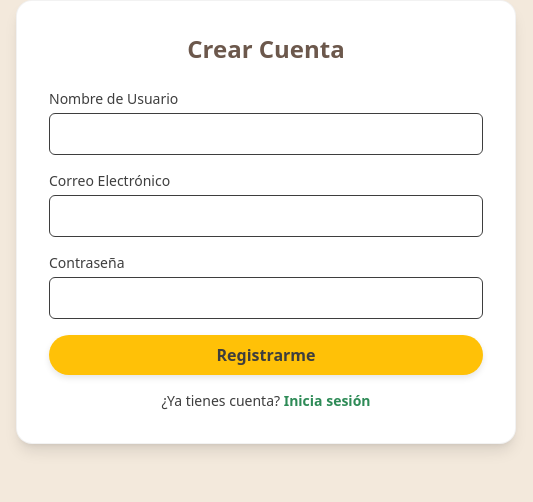
it: RegisterPage › muestra mensaje de éxito y redirige al login
The width and height of the screenshot is (533, 502).
In the field labelled "Nombre de Usuario": (266, 134) [49,113,483,155], type "Bernardo"
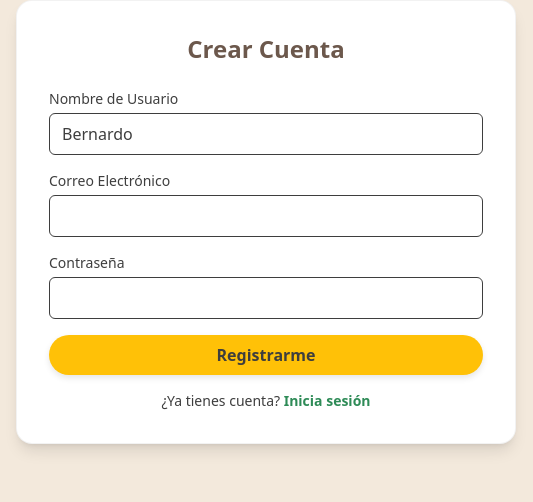
In the field labelled "Correo Electrónico": (266, 216) [49,195,483,237], type "bernardo@test.com"
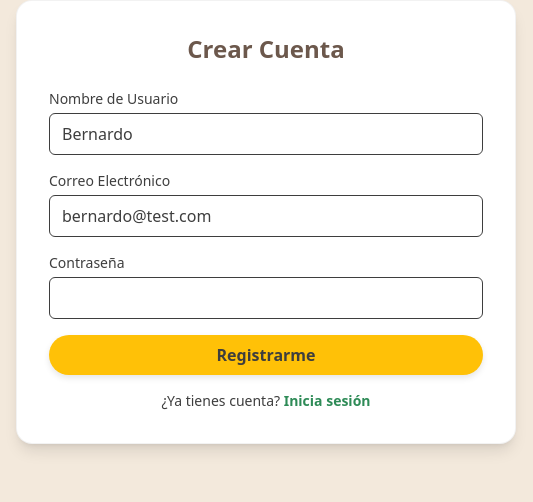
In the password field labelled "Contraseña": (266, 298) [49,277,483,319], type "123456"
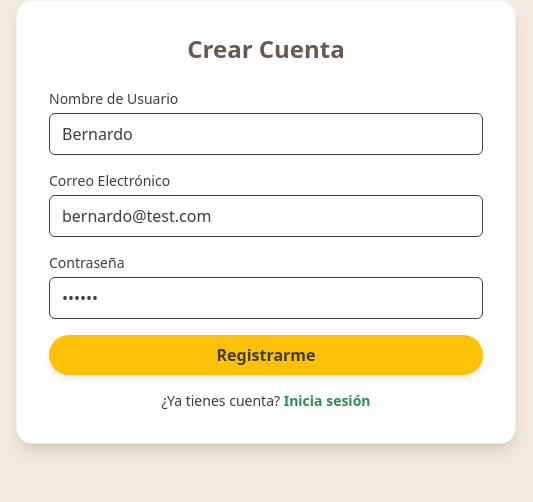
Submit the form from the button "Registrarme", box [49,335,483,375]
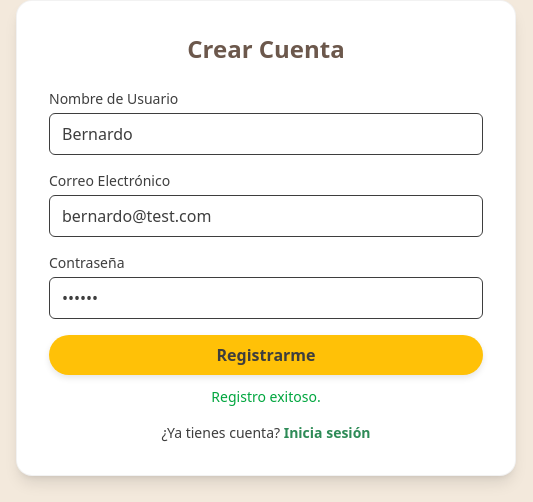
Now the text "Registro exitoso." is shown, box [211,387,321,406]
